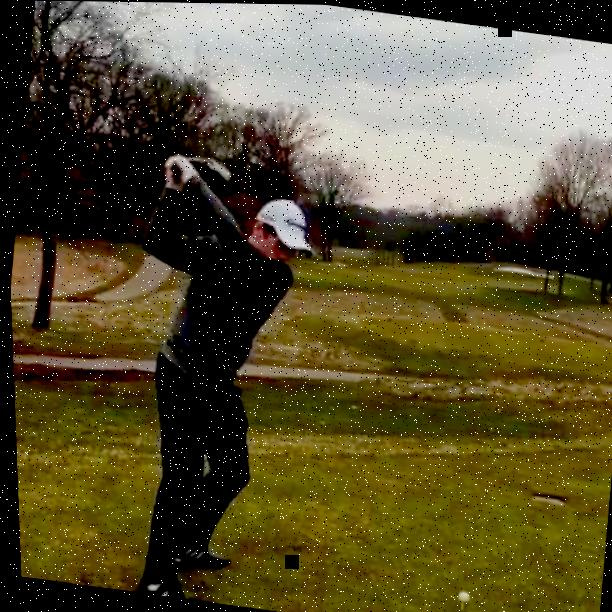ClubHead: (207, 159, 233, 182)
GolfBall: (452, 589, 466, 603)
